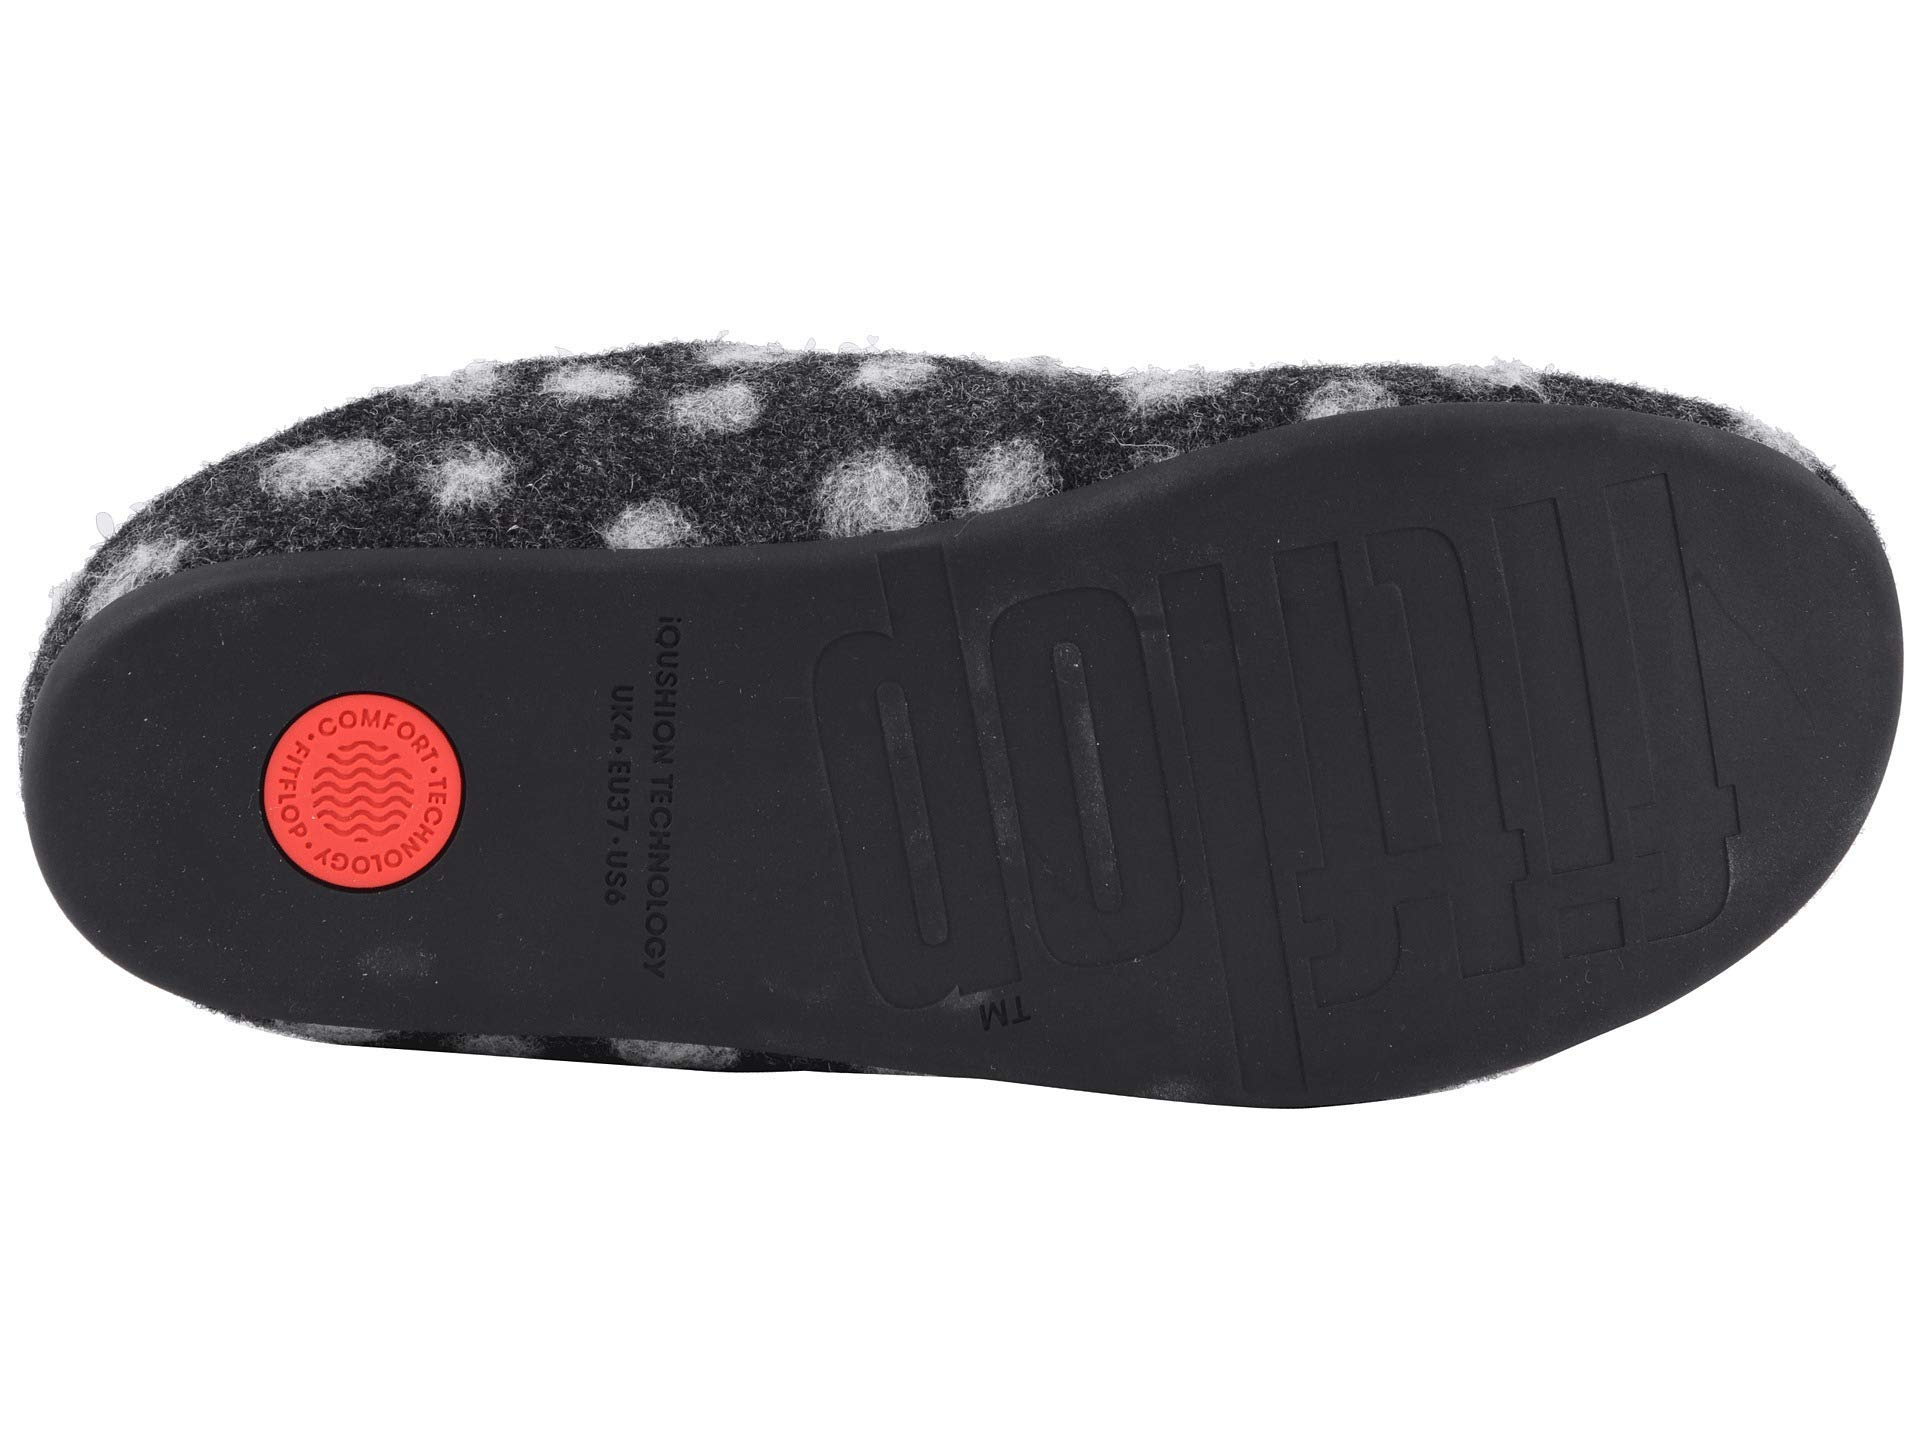chevron: (203, 641, 491, 948)
circle: (965, 526, 1680, 1109), (203, 641, 491, 948)
quad: (965, 526, 1680, 1109)
text: (965, 526, 1680, 1109), (203, 641, 491, 948)
